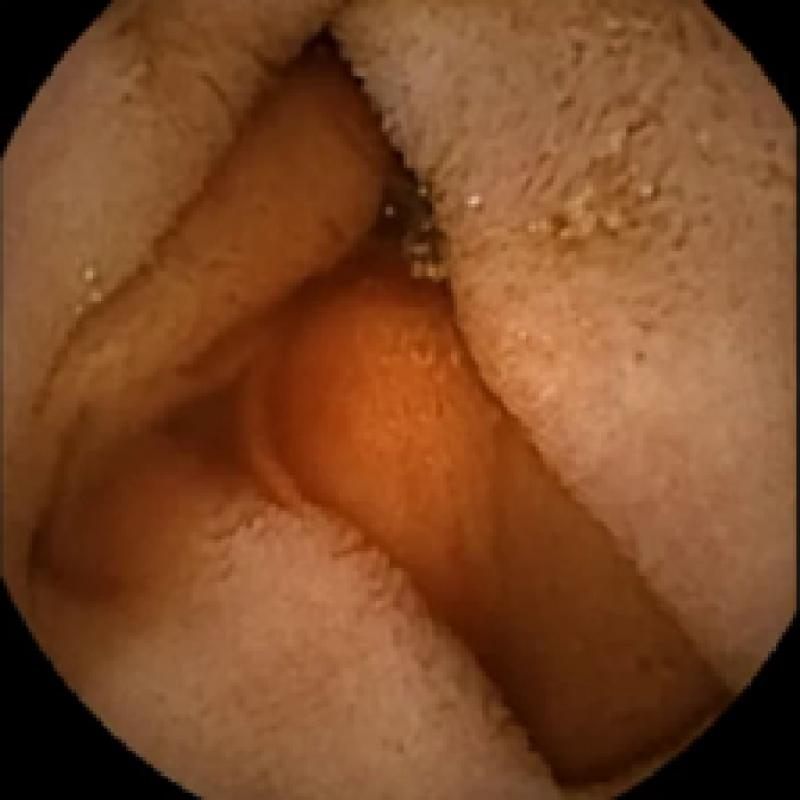bleeding: (254, 28, 500, 328), (23, 491, 84, 597)
